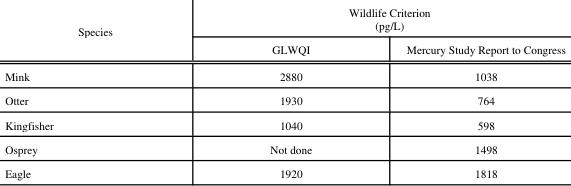table: (4, 3, 564, 180)
table column: (358, 3, 564, 180), (4, 3, 190, 180), (190, 3, 358, 180)
table column header: (4, 3, 564, 62)
table row: (4, 3, 564, 36), (4, 36, 564, 62), (4, 62, 564, 87), (4, 87, 564, 112), (4, 112, 564, 136), (4, 136, 564, 160), (4, 160, 564, 180)
table spanning cell: (190, 3, 564, 36), (4, 3, 190, 62)
